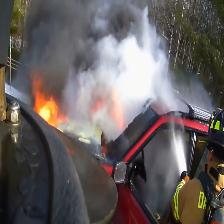fire: (26, 73, 76, 137)
smoke: (75, 51, 199, 224), (23, 0, 175, 91)
